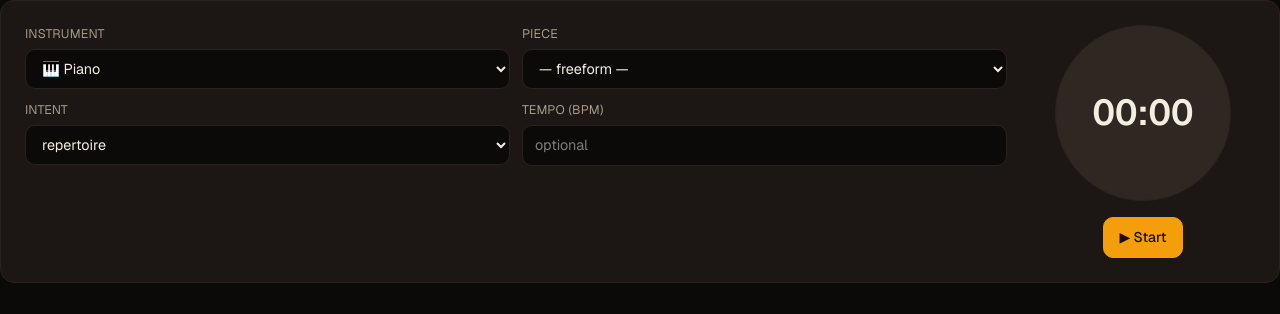
it: TimerPanel › discards a session shorter than 5 seconds instead of saving
Step 1. Click the button "▶ Start" → {"x": 1143, "y": 237}, box [1103,217,1183,258]
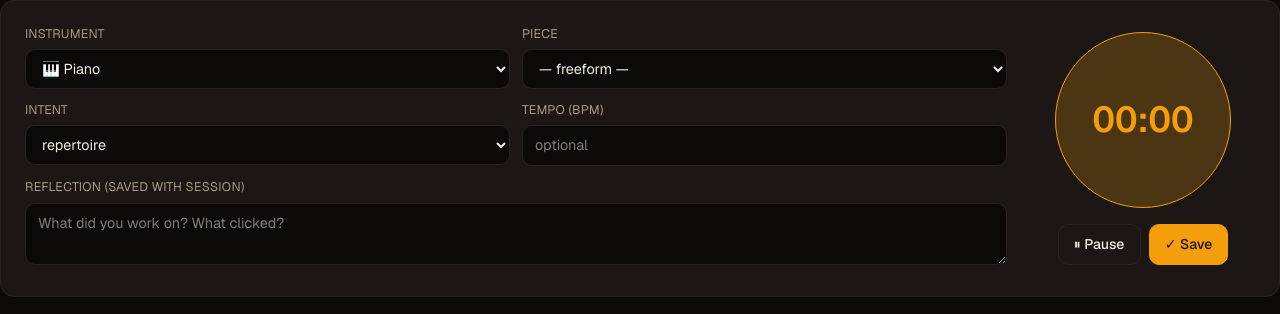
// immediately pause → 0 seconds elapsed
Step 2. Click the button "⏸ Pause" → {"x": 1099, "y": 245}, box [1058,224,1141,265]
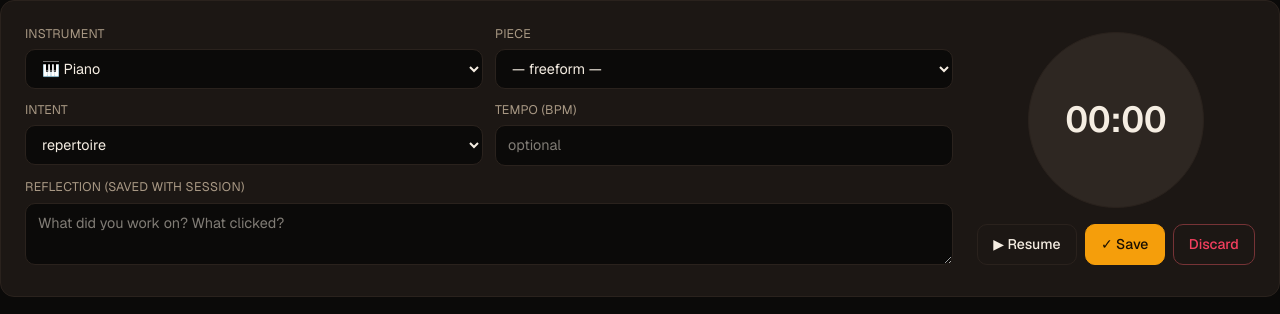
Step 3. Click the button "✓ Save" → {"x": 1125, "y": 245}, box [1085,224,1165,265]
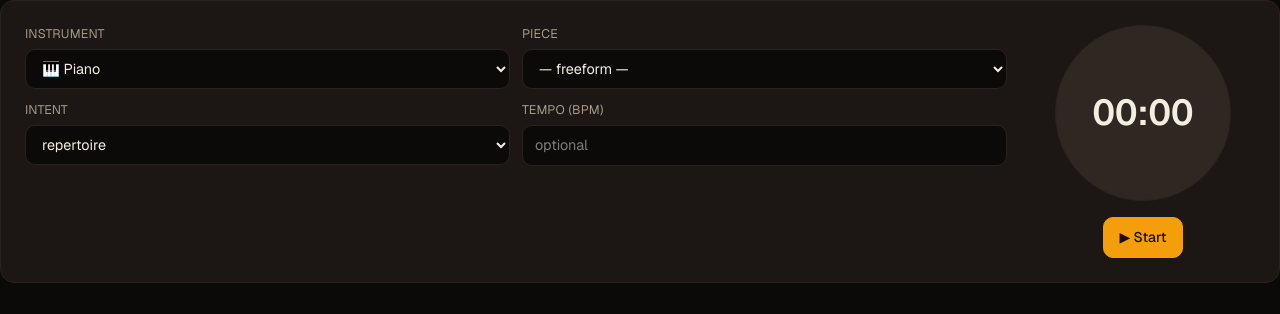
Now the button "▶ Start" is shown, box [1103,217,1183,258]
